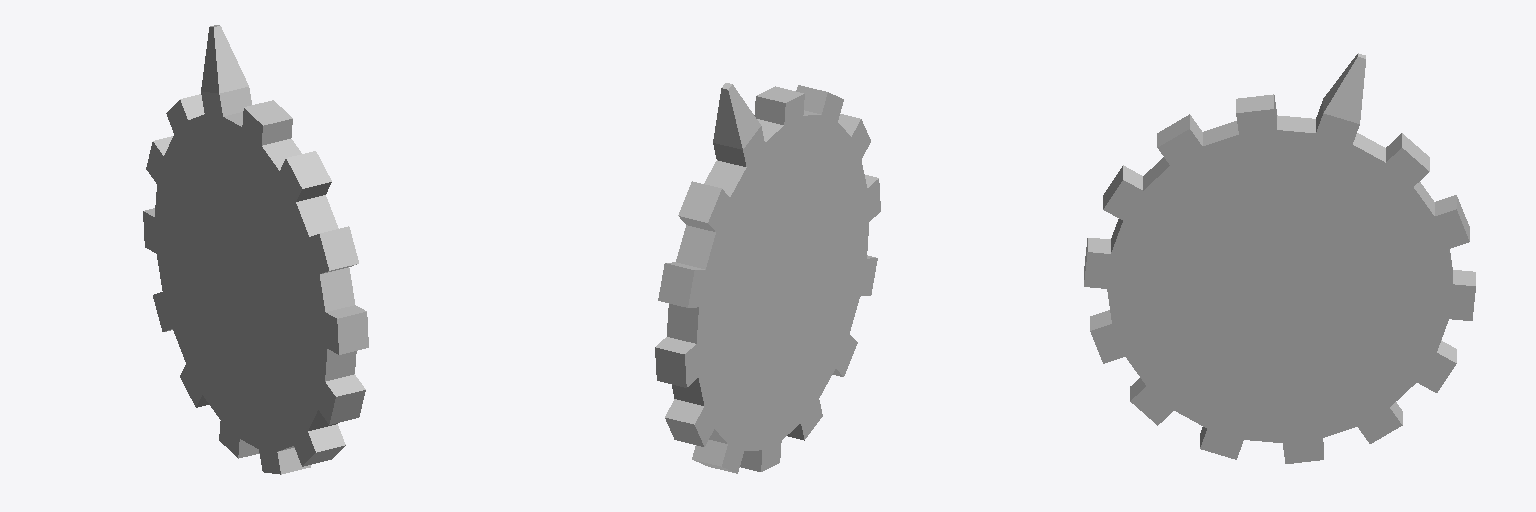
Rendered from gear_000020.obj.
The picture shows the model from 3 angles: view 1: azimuth 30°, elevation 25°; view 2: azimuth 150°, elevation 25°; view 3: azimuth 270°, elevation 25°; orthographic projection.
Visible parts, largest first — view 1: gear_Cylinder.001; view 2: gear_Cylinder.001; view 3: gear_Cylinder.001.
Part boxes in pixels (x1,y1,x2,y2): gear_Cylinder.001: (143, 25, 368, 474); gear_Cylinder.001: (655, 83, 880, 473); gear_Cylinder.001: (1084, 53, 1475, 463).
Bounding box in the file's own units: 0.1 × 1.28 × 1.13.